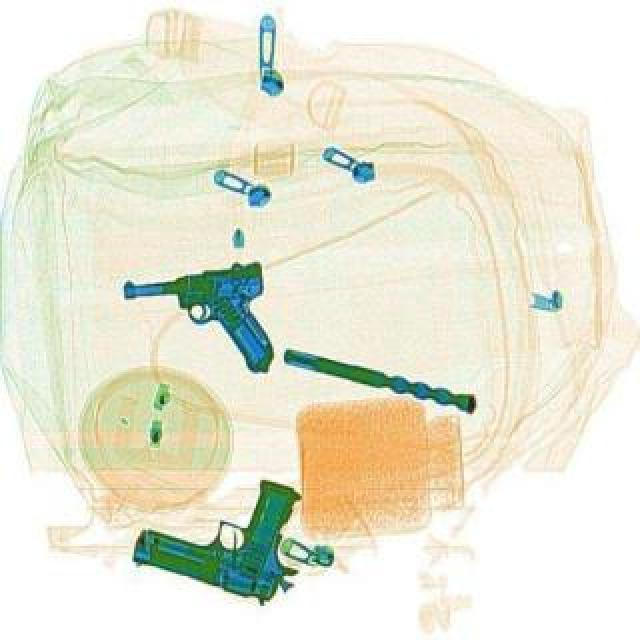gun: (126, 446, 322, 606), (116, 256, 280, 388)
